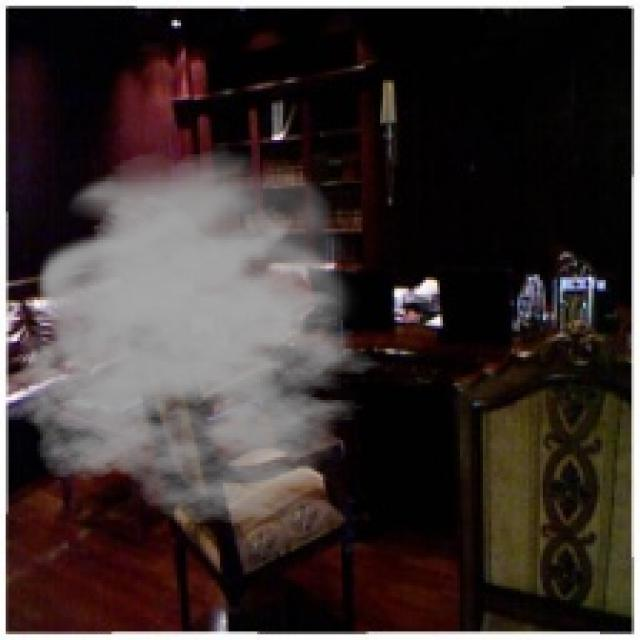smoke: (3, 148, 400, 526)
